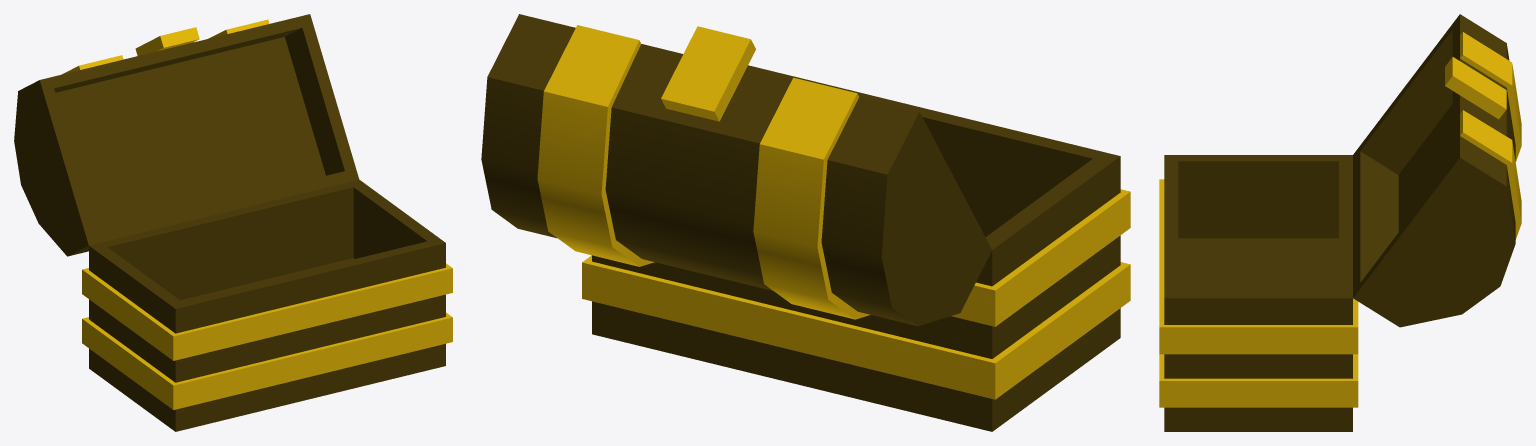
File: sm_chest_2.fbx
3 renders of one model, left to right at view 1: azimuth 30°, elevation 25°; view 2: azimuth 150°, elevation 25°; view 3: azimuth 270°, elevation 25°, orthographic. The views are drawn at different scales.
Parts seen in each view (by area): view 1: pCube5; view 2: pCube5; view 3: pCube5.
Boxes of the visible parts, x1,y1,x2,y2 form: pCube5: (14, 14, 452, 431); pCube5: (481, 14, 1130, 431); pCube5: (1159, 14, 1521, 431).
Size of the model in its own units: 553 by 512 by 571.
